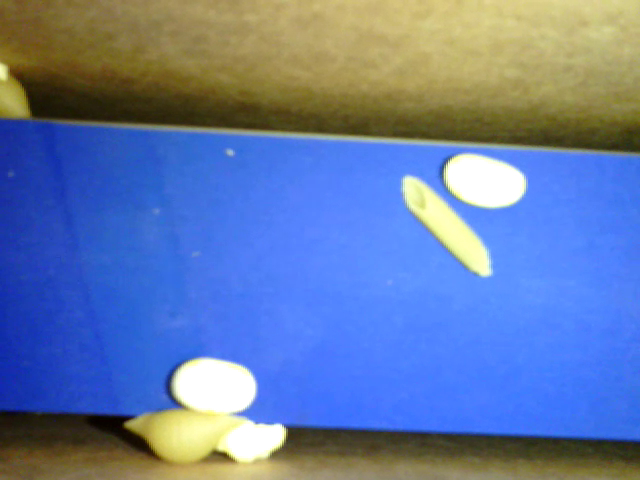penne: (401, 174, 494, 277)
shell: (123, 409, 241, 467)
